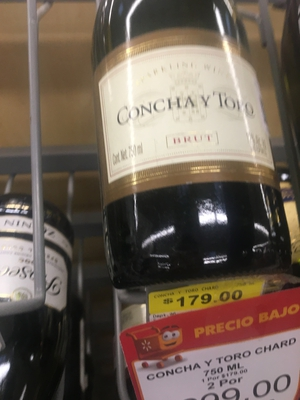brut: (90, 2, 296, 281)
